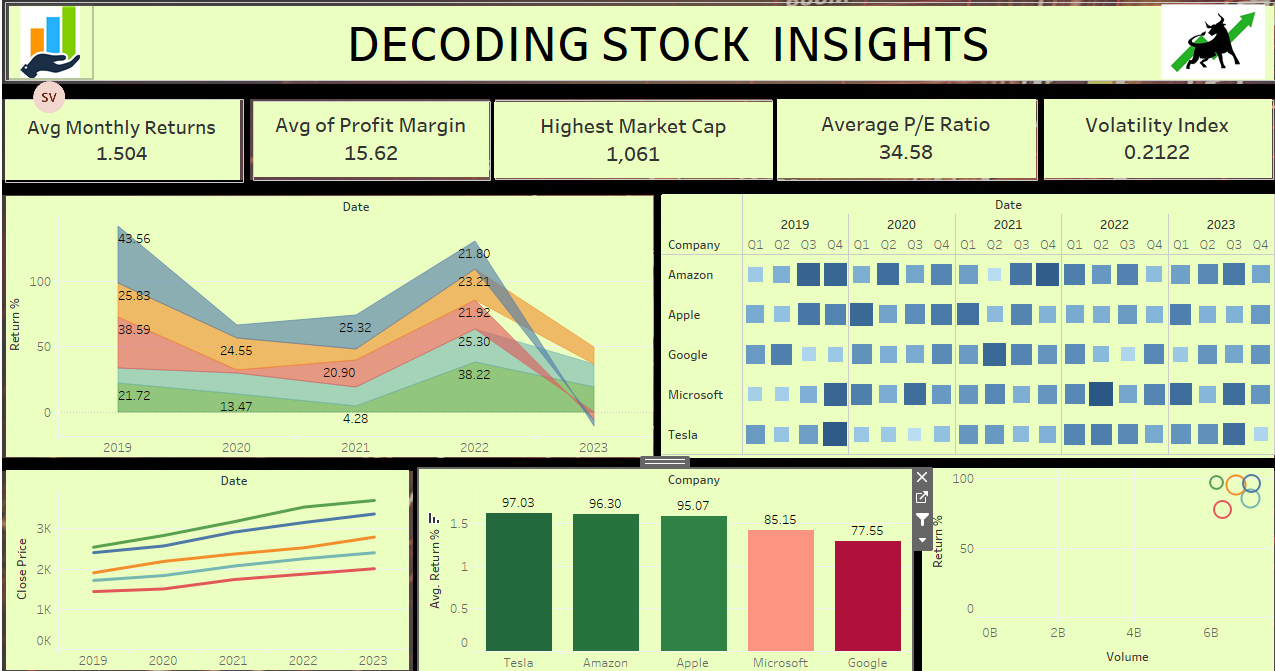

The page's visual inventory and layout, read from the dashboard file:
{"tool":"tableau","page":{"name":"Dashboard 1","canvas":[1300,700],"ordinal":0},"visuals":[{"type":"image","param":"C:/Users/saili/OneDrive/Desktop/BG_img.jpg","box":[8,8,1284,684]},{"type":"blank","box":[19,18,1265,74]},{"type":"image","param":"C:/Users/saili/OneDrive/Desktop/stock1.jpg","box":[19,18,83,72]},{"type":"text","box":[354,28,685,51]},{"type":"worksheet","title":"Avg P/E Ratio","mark":"Automatic","box":[787,111,262,81]},{"type":"worksheet","title":"Volatility Index","mark":"Automatic","box":[1054,111,231,79]},{"type":"worksheet","title":"Avg Monthly Returns","mark":"Automatic","box":[15,112,237,80]},{"type":"worksheet","title":"Avg of Profit Margin","mark":"Automatic","box":[264,114,235,80]},{"type":"worksheet","title":"Highest Market Cap","mark":"Automatic","box":[504,114,279,76]},{"type":"worksheet","title":"volume by month and company","mark":"Automatic","rows":["Company"],"cols":["Date","Date"],"box":[672,206,613,266]},{"type":"blank","box":[671,207,613,263]},{"type":"worksheet","title":"Market cap trend","mark":"Area","rows":["Return_%"],"cols":["Date"],"box":[16,208,647,261]},{"type":"worksheet","title":"return vs volume","mark":"Automatic","rows":["Return_%"],"cols":["Volume"],"box":[932,480,352,204]},{"type":"worksheet","title":"avg monthly return by company","mark":"Automatic","rows":["Return_%"],"cols":["Company"],"box":[429,481,493,203]},{"type":"worksheet","title":"Stock closing price trend","mark":"Automatic","rows":["Close_Price"],"cols":["Date"],"box":[16,482,403,200]}]}

Visuals, with their boxes in screenshot pixels (x1, y1, x2, y2), scaled from the page's 1300x700 canvas onto the 1275x671 screenshot:
image: <bbox>8, 8, 1267, 663</bbox>
blank: <bbox>19, 17, 1259, 88</bbox>
image: <bbox>19, 17, 100, 86</bbox>
text: <bbox>347, 27, 1019, 76</bbox>
"Avg P/E Ratio" worksheet: <bbox>772, 106, 1029, 184</bbox>
"Volatility Index" worksheet: <bbox>1034, 106, 1260, 182</bbox>
"Avg Monthly Returns" worksheet: <bbox>15, 107, 247, 184</bbox>
"Avg of Profit Margin" worksheet: <bbox>259, 109, 489, 186</bbox>
"Highest Market Cap" worksheet: <bbox>494, 109, 768, 182</bbox>
"volume by month and company" worksheet: <bbox>659, 197, 1260, 452</bbox>
blank: <bbox>658, 198, 1259, 451</bbox>
"Market cap trend" worksheet (Area marks): <bbox>16, 199, 650, 450</bbox>
"return vs volume" worksheet: <bbox>914, 460, 1259, 656</bbox>
"avg monthly return by company" worksheet: <bbox>421, 461, 904, 656</bbox>
"Stock closing price trend" worksheet: <bbox>16, 462, 411, 654</bbox>
